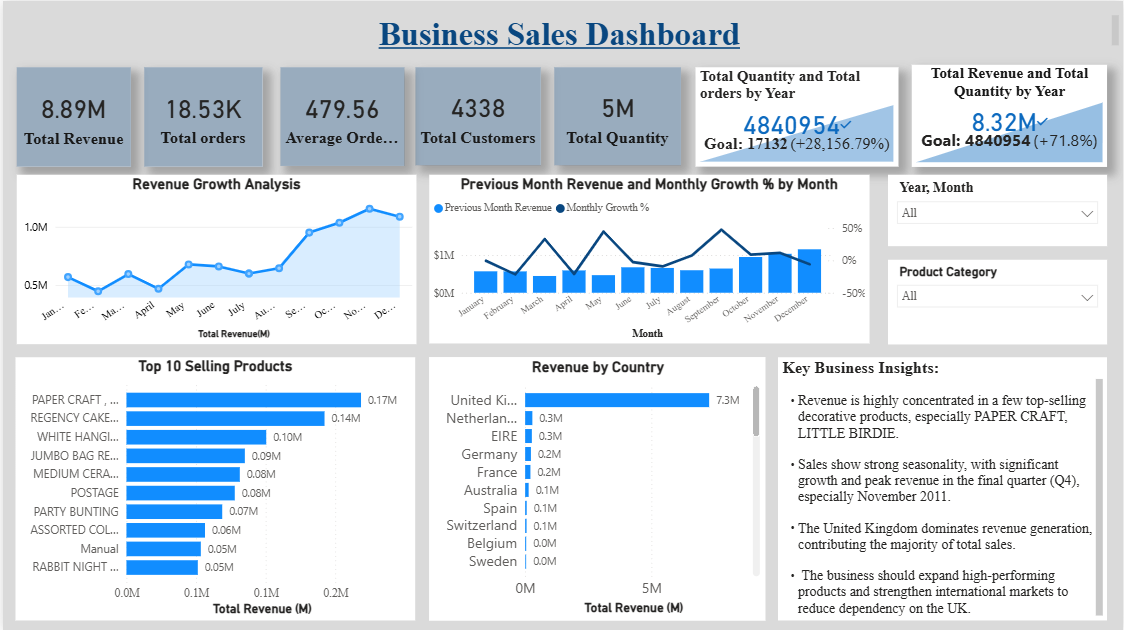

This screenshot's page, from the dashboard's own definition file:
{"tool":"powerbi","page":{"name":"Page 1","canvas":[1280,720],"ordinal":0},"visuals":[{"type":"card","fields":{"Values":["online_retail.Total Revenue"]},"box":[15.1,75.5,130.4,113.9],"z":0},{"type":"card","fields":{"Values":["online_retail.total orders"]},"box":[161.7,75,135,113.3],"z":1000},{"type":"card","fields":{"Values":["online_retail.Total Quantity"]},"box":[630,75,145,111.7],"z":2000},{"type":"card","fields":{"Values":["online_retail.Total Customers"]},"box":[471.7,75,143.3,111.7],"z":3000},{"type":"card","fields":{"Values":["online_retail.Average Order Value"]},"box":[317,75.5,141.3,112.5],"z":4000},{"type":"kpi","fields":{"Indicator":["online_retail.Total Quantity"],"Goal":["online_retail.total orders"],"TrendLine":["DateTable.Date.Variation.Date Hierarchy.Year"]},"box":[791.7,75,231.7,113.3],"z":5000},{"type":"kpi","fields":{"Indicator":["online_retail.Total Revenue"],"TrendLine":["DateTable.Date.Variation.Date Hierarchy.Year"],"Goal":["online_retail.Total Quantity"]},"box":[1038.3,73.3,223.3,116.7],"z":6000},{"type":"lineChart","title":"Revenue Growth Analysis","fields":{"Category":["DateTable.Date.Variation.Date Hierarchy.Month"],"Y":["online_retail.Total Revenue"]},"box":[15,198.3,456.7,193.3],"z":7000},{"type":"clusteredBarChart","title":"Top 10 Selling Products","fields":{"Category":["online_retail.Description"],"Y":["online_retail.Total Revenue"]},"box":[13.7,407.5,456.9,300.5],"z":8000},{"type":"slicer","fields":{"Values":["DateTable.Date.Variation.Date Hierarchy.Year","DateTable.Date.Variation.Date Hierarchy.Month"]},"box":[1011.7,198.3,250,81.7],"z":9000},{"type":"clusteredBarChart","title":"Revenue by Country","fields":{"Category":["online_retail.Country"],"Y":["online_retail.Total Revenue"]},"box":[487.1,407.5,384.2,300.5],"z":10000},{"type":"lineClusteredColumnComboChart","fields":{"Category":["DateTable.Date.Variation.Date Hierarchy.Month"],"Y":["DateTable.Previous Month Revenue"],"Y2":["DateTable.Monthly Growth %"]},"box":[487.1,198.6,502.9,192.9],"z":11000},{"type":"slicer","fields":{"Values":["online_retail.Product Category"]},"box":[1011.7,295,250,96.7],"z":12000},{"type":"textbox","box":[885.1,407.5,376,300.5],"z":13000},{"type":"textbox","box":[0,11.7,1280,48.3],"z":14000}]}

Visuals, with their boxes in screenshot pixels (x1, y1, x2, y2), scaled from the page's 1280x720 canvas onto the 1124x630 screenshot:
card - online_retail.Total Revenue: (13,66,128,166)
card - online_retail.total orders: (142,66,261,165)
card - online_retail.Total Quantity: (553,66,681,163)
card - online_retail.Total Customers: (414,66,540,163)
card - online_retail.Average Order Value: (278,66,402,164)
kpi - online_retail.Total Quantity x online_retail.total orders: (695,66,899,165)
kpi - online_retail.Total Revenue x DateTable.Date.Variation.Date Hierarchy.Year: (912,64,1108,166)
"Revenue Growth Analysis" lineChart: (13,174,414,343)
"Top 10 Selling Products" clusteredBarChart: (12,357,413,620)
slicer - DateTable.Date.Variation.Date Hierarchy.Year x DateTable.Date.Variation.Date Hierarchy.Month: (888,174,1108,245)
"Revenue by Country" clusteredBarChart: (428,357,765,620)
lineClusteredColumnComboChart - DateTable.Date.Variation.Date Hierarchy.Month x DateTable.Previous Month Revenue: (428,174,869,343)
slicer - online_retail.Product Category: (888,258,1108,343)
textbox: (777,357,1107,620)
textbox: (0,10,1123,52)
